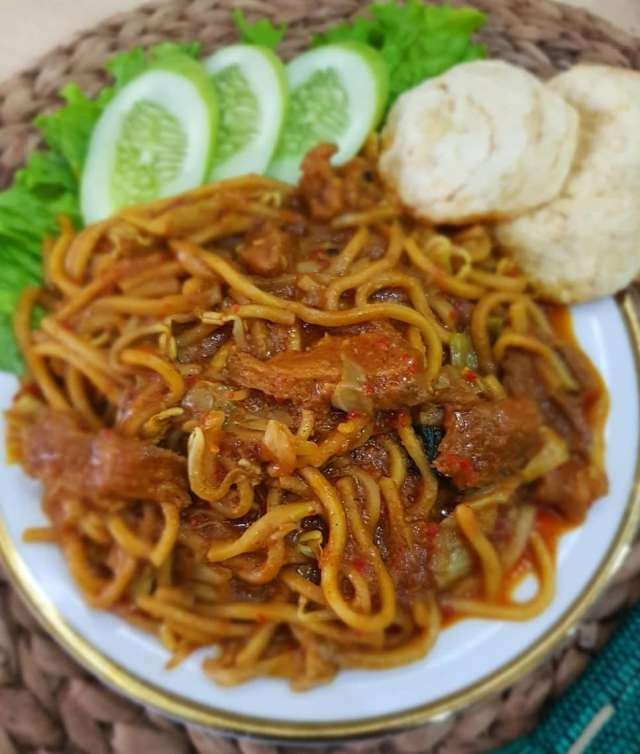mie_aceh: (12, 180, 604, 686)
